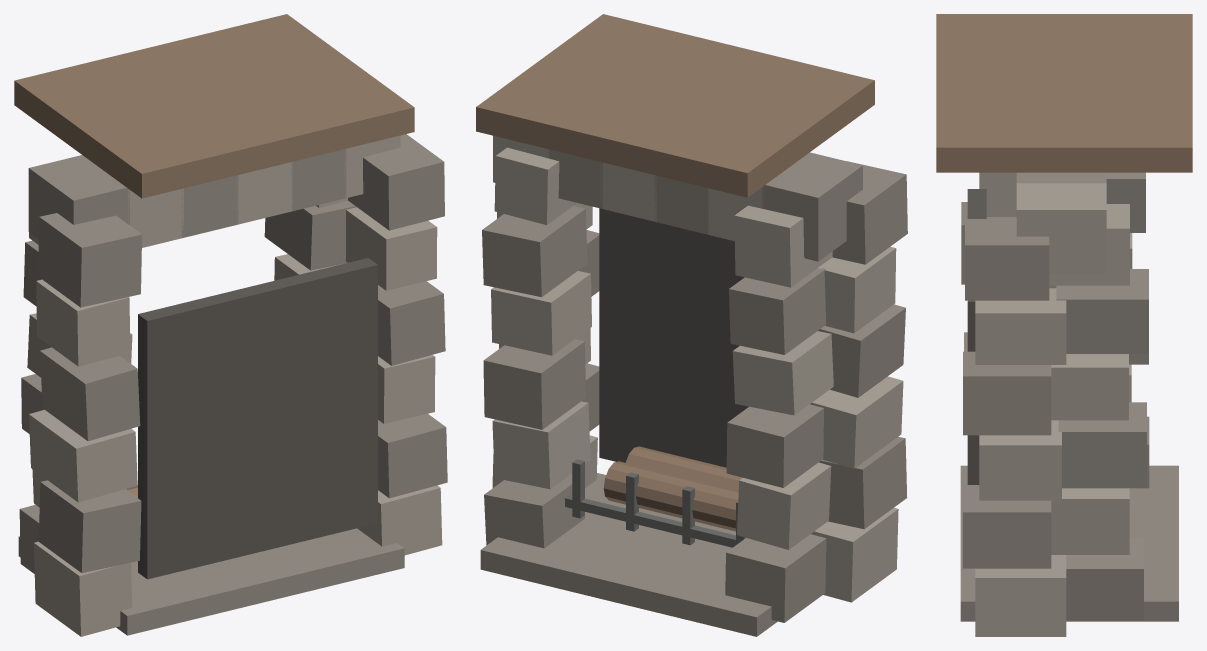
File: fireplace.glb
3 views of the same model, side by side, from view 1: azimuth 30°, elevation 25°; view 2: azimuth 150°, elevation 25°; view 3: azimuth 270°, elevation 25° (orthographic).
Visible parts, largest first — view 1: fireboxBack, mantel, hearth, stone_-1_5_1, stone_-1_1_1, stone_-1_3_1, stone_-1_2_1, stone_1_5_1, stone_-1_0_1, lintelStone0, stone_-1_4_1, stone_1_4_1 (+15 smaller); view 2: mantel, fireboxBack, hearth, stone_1_4_0, stone_1_2_0, stone_-1_2_0, lintelStone0, stone_-1_0_0, stone_-1_4_0, stone_-1_3_0, stone_1_3_0, stone_1_1_0 (+22 smaller); view 3: mantel, hearth, lintelStone5, stone_1_0_1, stone_1_3_1, stone_1_5_1, stone_1_1_1, stone_1_2_0, stone_1_4_0, stone_1_4_1, stone_1_2_1, stone_1_0_0 (+8 smaller).
Boxes of the visible parts, x1,y1,x2,y2 form: fireboxBack: [138, 258, 377, 579]; mantel: [14, 14, 414, 198]; hearth: [18, 528, 404, 635]; stone_-1_5_1: [38, 213, 141, 307]; stone_-1_1_1: [38, 480, 141, 572]; stone_-1_3_1: [40, 347, 140, 441]; stone_-1_2_1: [29, 409, 137, 502]; stone_1_5_1: [348, 134, 444, 230]; stone_-1_0_1: [34, 541, 132, 636]; lintelStone0: [28, 155, 129, 238]; stone_-1_4_1: [36, 279, 130, 366]; stone_1_4_1: [345, 207, 437, 290]; mantel: [476, 14, 874, 197]; fireboxBack: [599, 208, 748, 467]; hearth: [480, 473, 777, 636]; stone_1_4_0: [482, 206, 587, 297]; stone_1_2_0: [483, 339, 585, 429]; stone_-1_2_0: [726, 404, 823, 487]; lintelStone0: [762, 152, 862, 261]; stone_-1_0_0: [725, 534, 826, 622]; stone_-1_4_0: [729, 268, 826, 354]; stone_-1_3_0: [732, 331, 833, 415]; stone_1_3_0: [491, 271, 591, 355]; stone_1_1_0: [492, 401, 590, 489]; mantel: [936, 14, 1192, 172]; hearth: [960, 465, 1178, 621]; lintelStone5: [1016, 183, 1106, 274]; stone_1_0_1: [975, 555, 1066, 636]; stone_1_3_1: [963, 351, 1051, 435]; stone_1_5_1: [965, 219, 1049, 300]; stone_1_1_1: [963, 485, 1051, 568]; stone_1_2_0: [1058, 402, 1146, 488]; stone_1_4_0: [1056, 269, 1148, 353]; stone_1_4_1: [975, 288, 1066, 364]; stone_1_2_1: [979, 420, 1061, 500]; stone_1_0_0: [1066, 537, 1143, 620].
Size of the model in its own units: 1.56 by 1.91 by 0.94.
